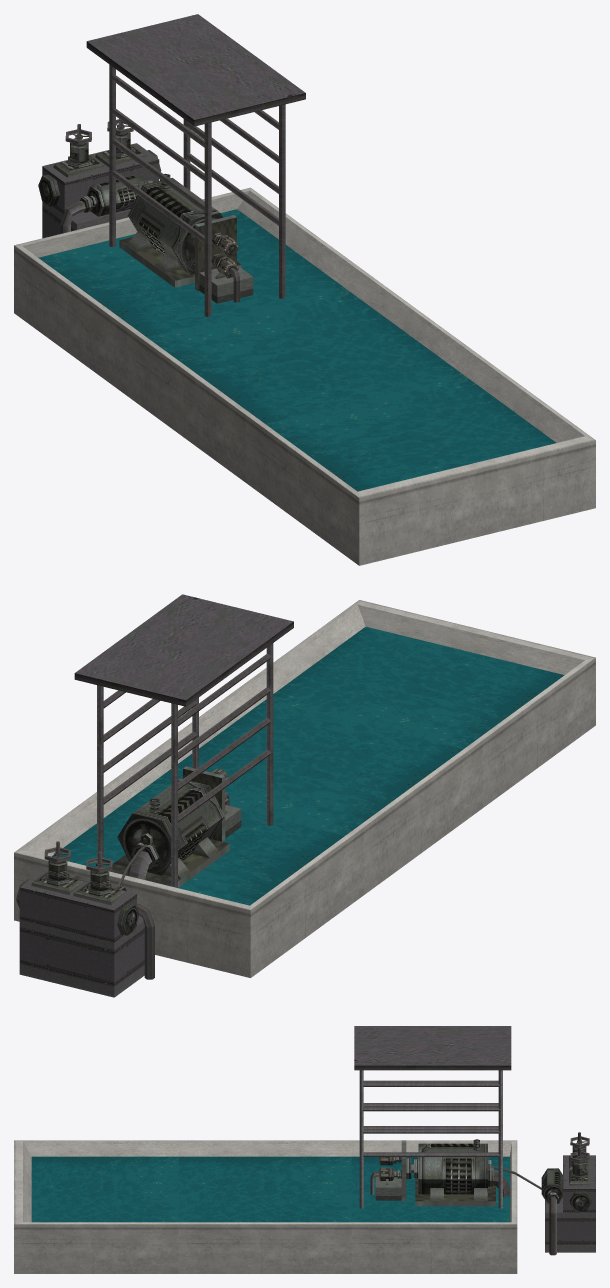
Rendered from water_purification_01.obj.
3 views of the same model, one above another, from view 1: azimuth 30°, elevation 25°; view 2: azimuth 150°, elevation 25°; view 3: azimuth 270°, elevation 25° (orthographic). The views are drawn at different scales.
Parts seen in each view (by area): view 1: Object174; view 2: Object174; view 3: Object174.
Part boxes in pixels (left/top/right/bottom): Object174: left=14, top=14, right=595, bottom=565; Object174: left=14, top=594, right=595, bottom=997; Object174: left=14, top=1026, right=595, bottom=1273.
Size of the model in its own units: 17.69 by 18.45 by 51.7.
